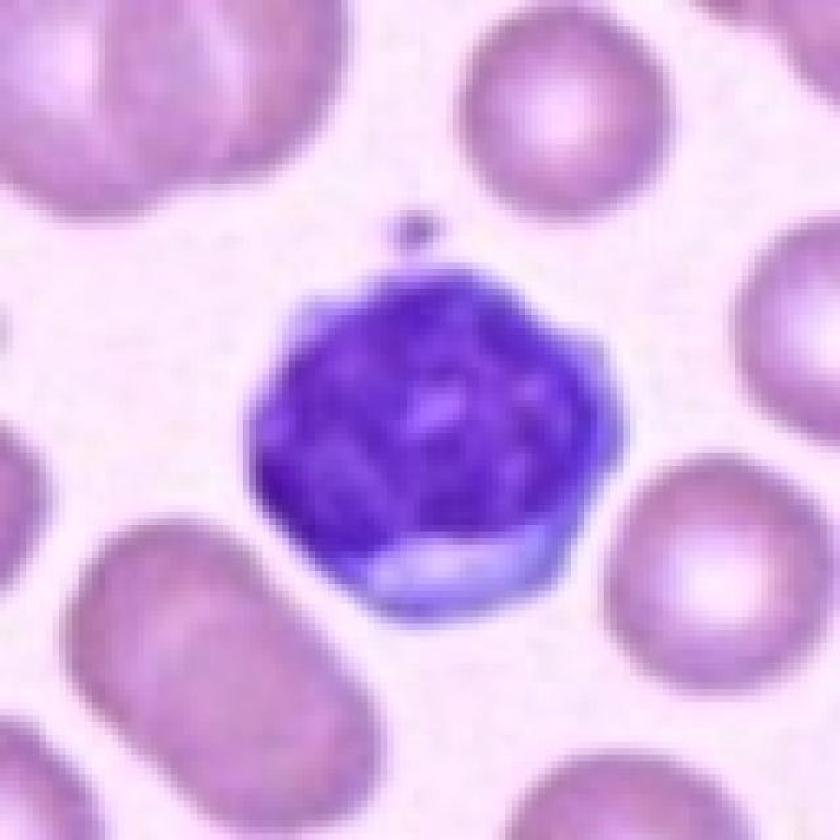lymphocyte: (236, 256, 634, 627)
